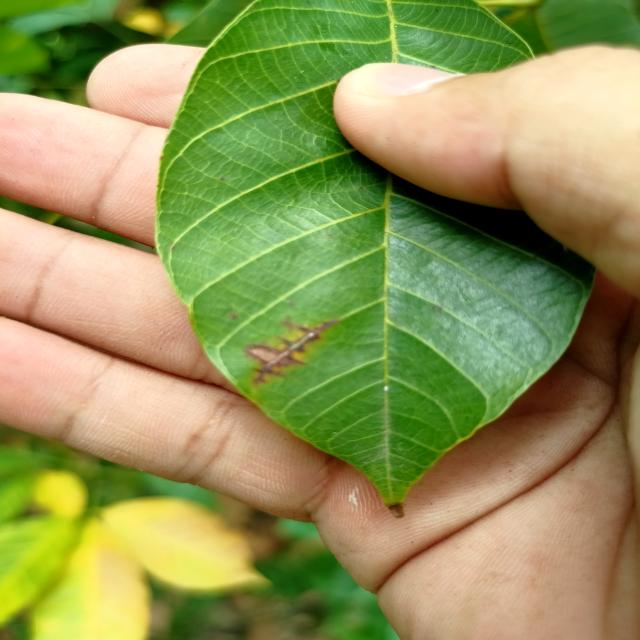Corynespora: (245, 320, 339, 385)
